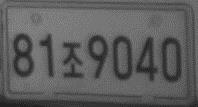0: (111, 34, 133, 81), (161, 37, 182, 82)
1: (38, 33, 55, 78)
4: (133, 35, 158, 82)
8: (11, 31, 34, 77)
9: (87, 34, 108, 79)
조: (61, 40, 85, 79)
